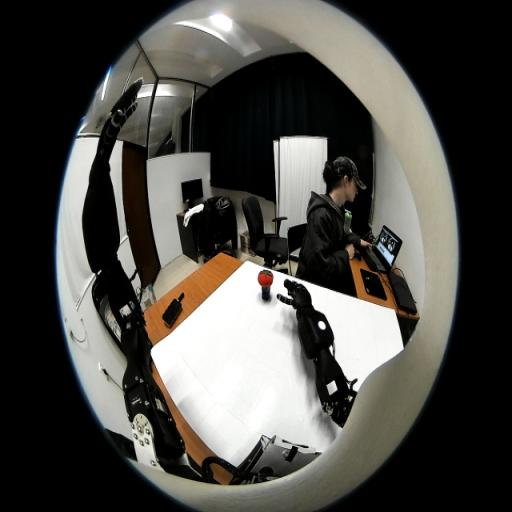LeftHand: (98, 112, 120, 154)
RightHand: (294, 288, 310, 303)
Tomato: (258, 270, 274, 288)
